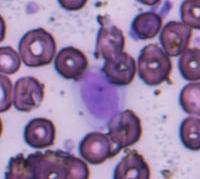L: (75, 68, 123, 120)
